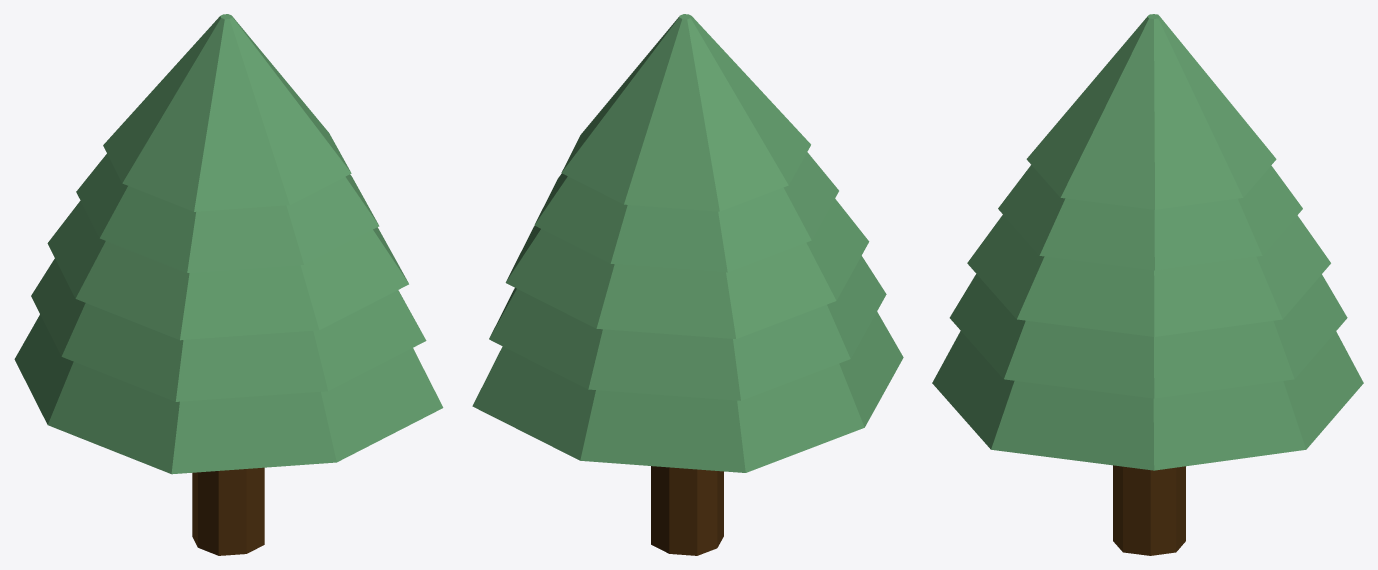
File: Wallpaper.fbx
3 renders of one model, left to right at view 1: azimuth 30°, elevation 25°; view 2: azimuth 150°, elevation 25°; view 3: azimuth 270°, elevation 25°, orthographic.
Visible parts, largest first — view 1: Wallpaper:Mesh; view 2: Wallpaper:Mesh; view 3: Wallpaper:Mesh.
Boxes of the visible parts, bbox=[...] form: Wallpaper:Mesh: bbox=[14, 14, 443, 555]; Wallpaper:Mesh: bbox=[472, 14, 903, 555]; Wallpaper:Mesh: bbox=[932, 14, 1363, 555].
Bounding box in the file's own units: 3.92 × 5.48 × 4.09.
